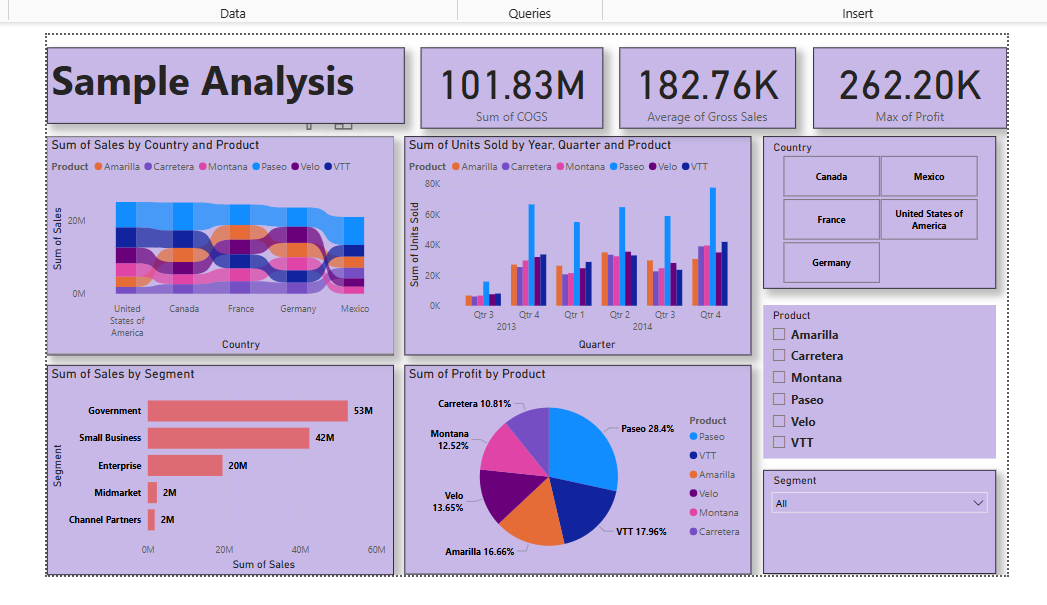

Layout of this report page (visuals, bound fields, positions):
{"tool":"powerbi","page":{"name":"Page 1","canvas":[1280,720],"ordinal":0},"visuals":[{"type":"clusteredBarChart","fields":{"Category":["financials.Segment"],"Y":["Sum(financials.Sales)"]},"box":[0,439.5,462.2,280.2],"z":0},{"type":"pieChart","fields":{"Category":["financials.Product"],"Y":["Sum(financials.Profit)"]},"box":[477,439.6,462.7,279.4],"z":1},{"type":"ribbonChart","fields":{"Category":["financials.Country"],"Series":["financials.Product"],"Y":["Sum(financials.Sales)"]},"box":[0,135.3,462.7,291.9],"z":2},{"type":"lineClusteredColumnComboChart","fields":{"Category":["financials.Date.Variation.Date Hierarchy.Year","financials.Date.Variation.Date Hierarchy.Quarter","financials.Date.Variation.Date Hierarchy.Month","financials.Date.Variation.Date Hierarchy.Day"],"Series":["financials.Product"],"Y":["Sum(financials.Units Sold)"]},"box":[477,135.3,462.7,291.9],"z":3},{"type":"textbox","box":[0,16.7,476.7,101.7],"z":4},{"type":"card","fields":{"Values":["Sum(financials.COGS)"]},"box":[498.3,16.7,243.3,108.3],"z":5},{"type":"card","fields":{"Values":["Avg(financials.Gross Sales)"]},"box":[763.3,16.7,235,108.3],"z":6},{"type":"card","fields":{"Values":["Max(financials.Profit)"]},"box":[1021.7,16.7,258.3,108.3],"z":7},{"type":"slicer","fields":{"Values":["financials.Country"]},"box":[955,135,310,203.3],"z":8},{"type":"slicer","fields":{"Values":["financials.Segment"]},"box":[955,580,310,138.3],"z":9},{"type":"slicer","fields":{"Values":["financials.Product"]},"box":[955,360,310,205],"z":10}]}

Visuals, with their boxes on the page's 1280x720 design canvas (x1, y1, x2, y2). These are canvas units, not pixel positions in the 1047x605 screenshot, which may show the page scaled, cropped or inside an application window:
clusteredBarChart - financials.Segment x Sum(financials.Sales): 0,440,462,720
pieChart - financials.Product x Sum(financials.Profit): 477,440,940,719
ribbonChart - financials.Country x financials.Product: 0,135,463,427
lineClusteredColumnComboChart - financials.Date.Variation.Date Hierarchy.Year x financials.Date.Variation.Date Hierarchy.Quarter: 477,135,940,427
textbox: 0,17,477,118
card - Sum(financials.COGS): 498,17,742,125
card - Avg(financials.Gross Sales): 763,17,998,125
card - Max(financials.Profit): 1022,17,1280,125
slicer - financials.Country: 955,135,1265,338
slicer - financials.Segment: 955,580,1265,718
slicer - financials.Product: 955,360,1265,565
